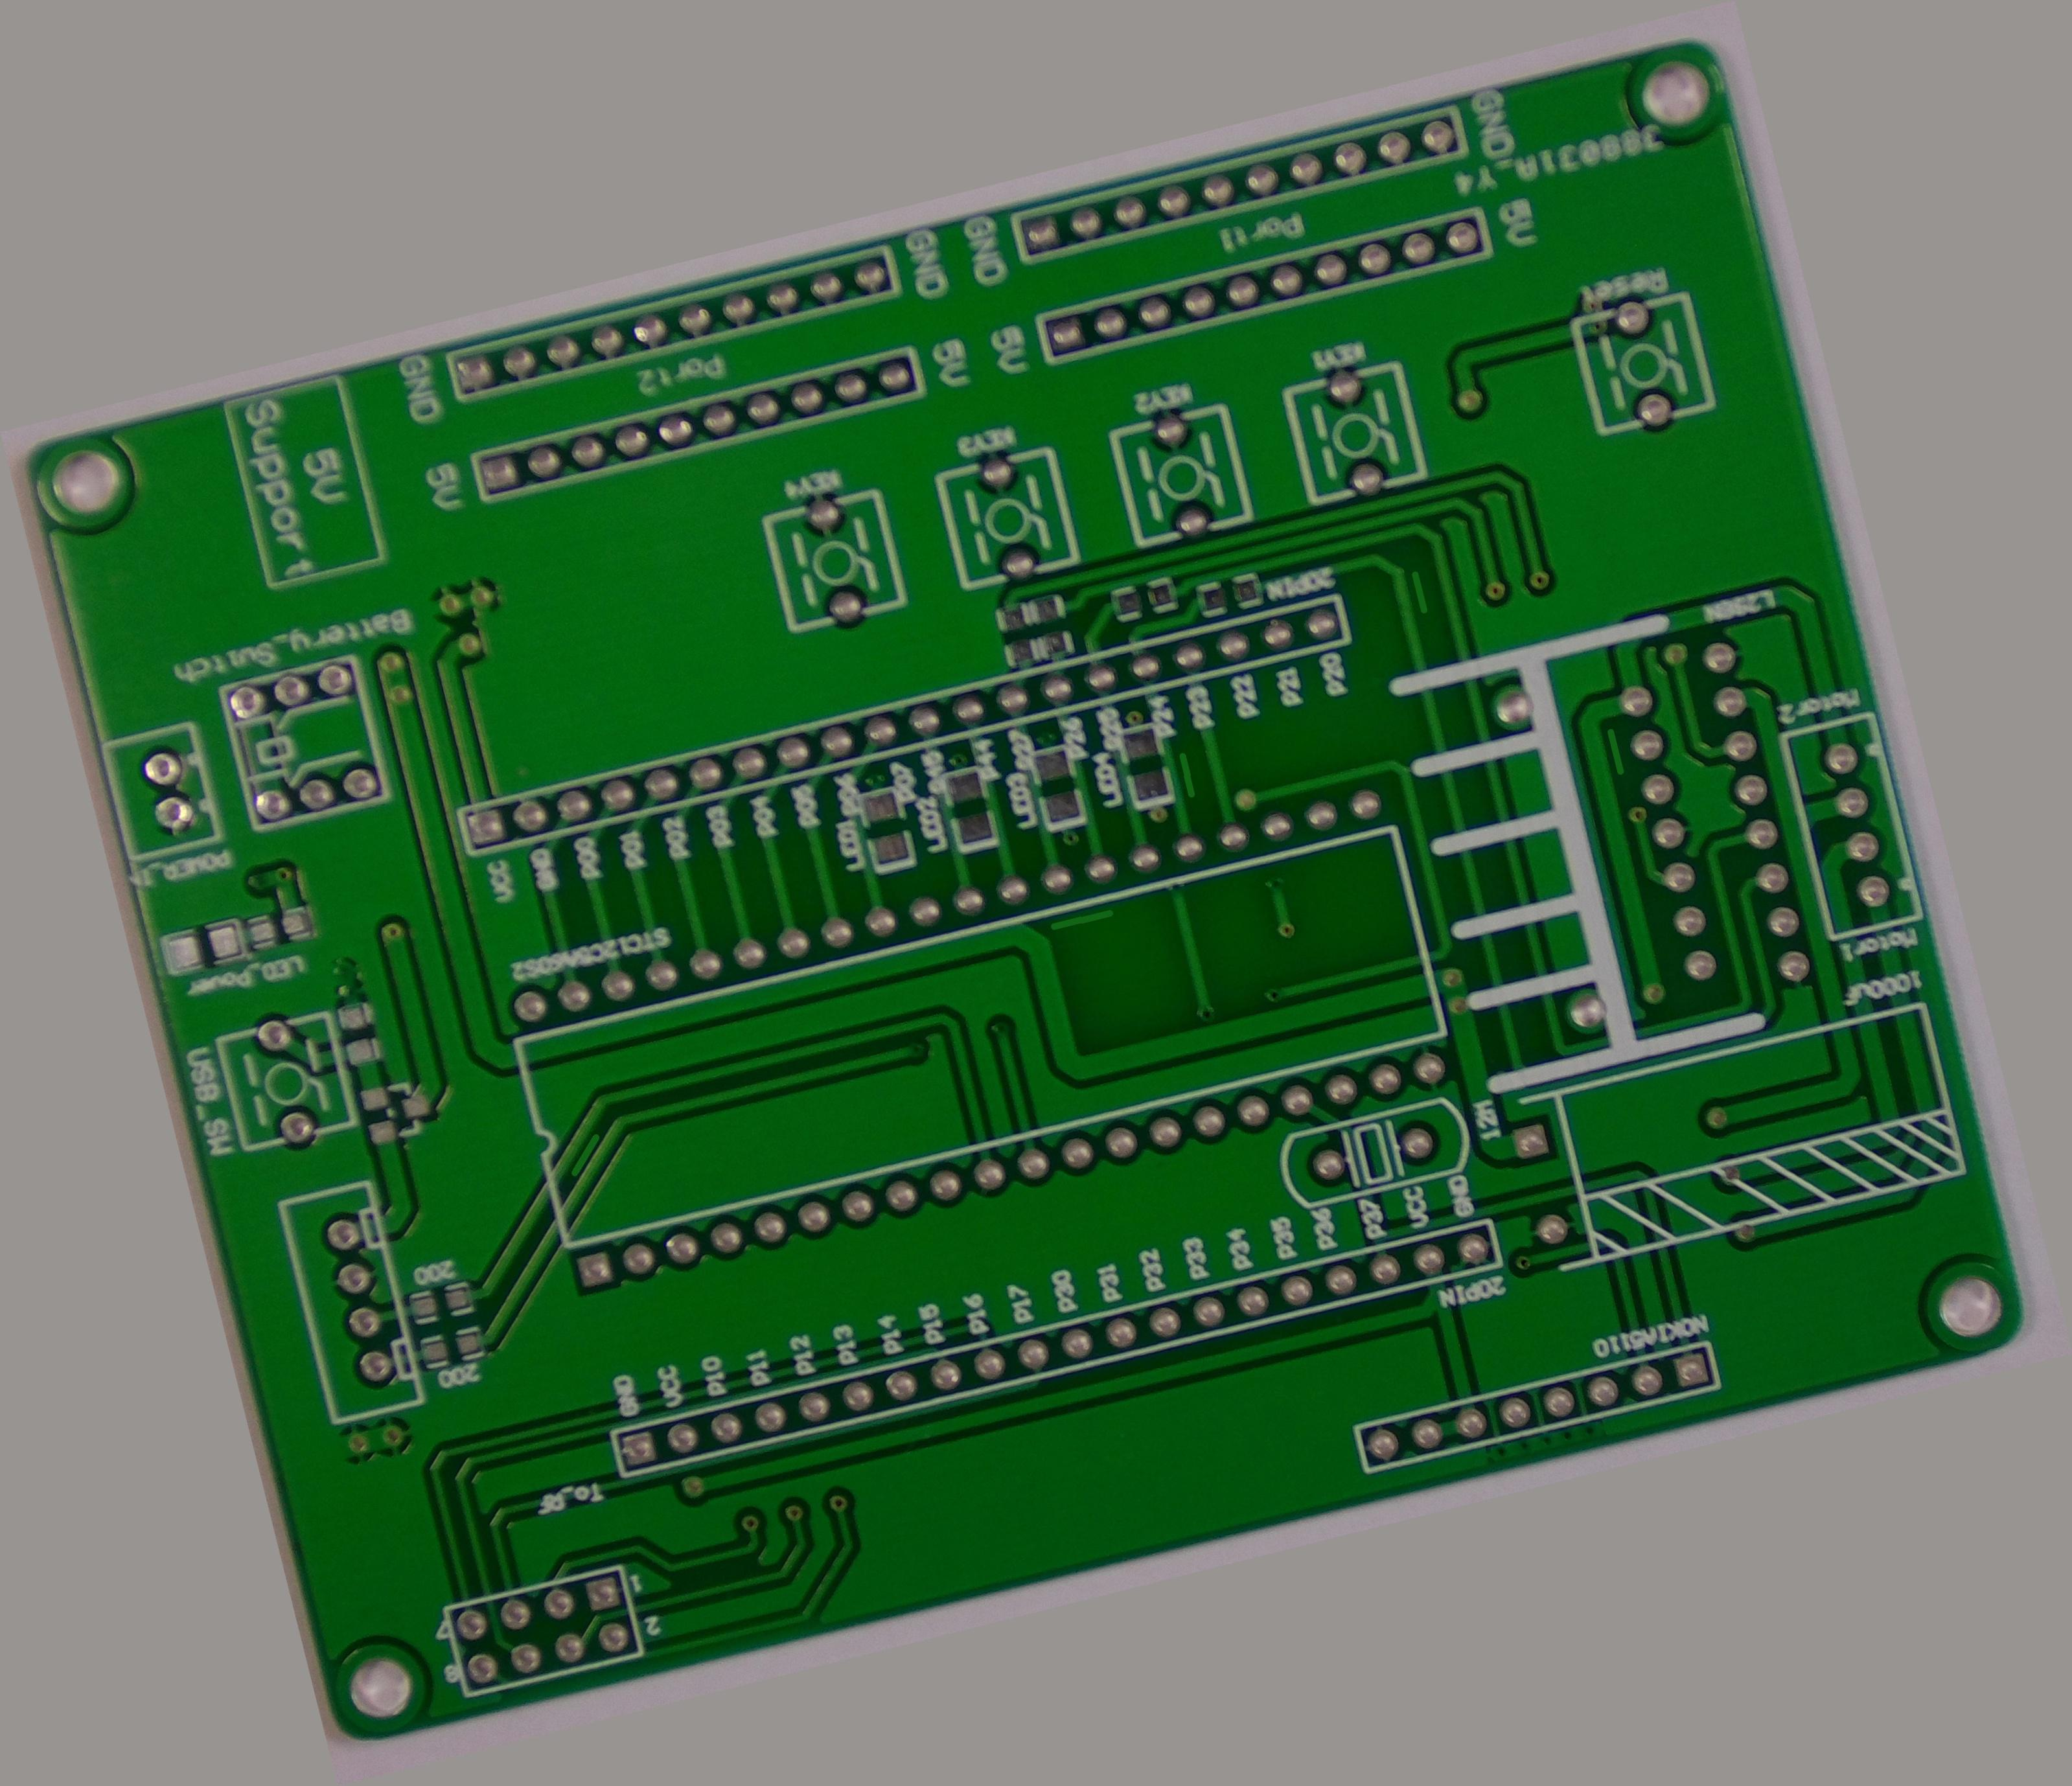spurious_copper: (546, 1117, 631, 1185), (1040, 889, 1128, 949), (1392, 553, 1448, 627), (1586, 710, 1640, 786), (1163, 740, 1214, 812)
